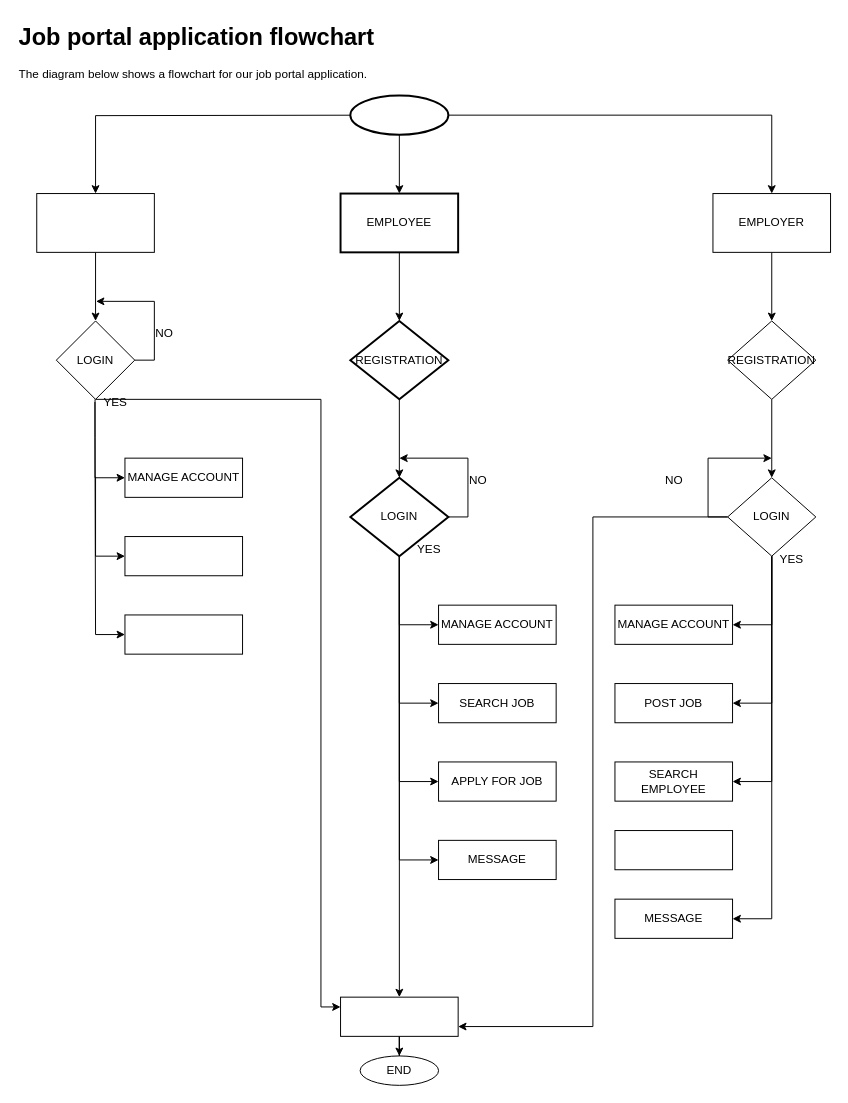
This 848x1103 diagram has some shape labels left out. Here are the shapes that lost their labels. From the top down, the centre of each, then its label:
At [399,114]: "START".
At [95,222]: "ADMINISTRATION".
At [183,556]: "MANAGE EMPLOYERS".
At [183,634]: "MANAGE EMPLOYEES".
At [673,850]: "MANAGE JOB".
At [399,1016]: "LOGOUT".
